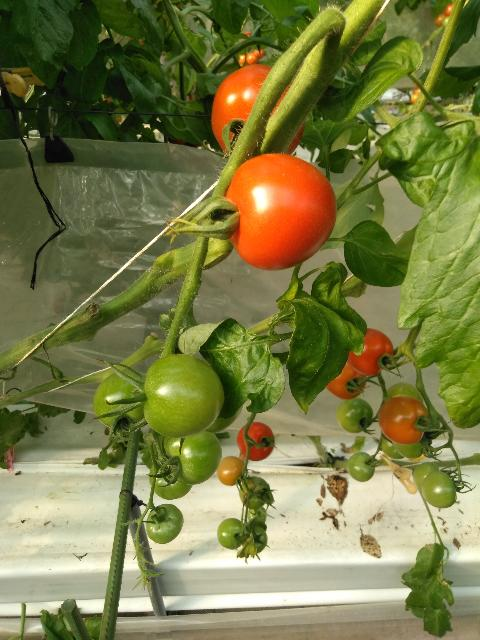l_fully_ripened: (222, 153, 337, 270), (211, 63, 306, 166), (347, 328, 393, 377), (236, 421, 275, 461)
l_green: (142, 353, 224, 438), (163, 428, 222, 485), (92, 371, 147, 429), (149, 457, 193, 500), (145, 503, 185, 544), (421, 470, 457, 508), (336, 398, 373, 433), (239, 476, 270, 510), (217, 518, 246, 550), (384, 383, 424, 405), (346, 452, 375, 482), (413, 461, 439, 491), (242, 524, 267, 554), (247, 507, 267, 524)
l_half_ripened: (378, 396, 429, 445), (325, 361, 367, 400), (216, 456, 246, 486)
